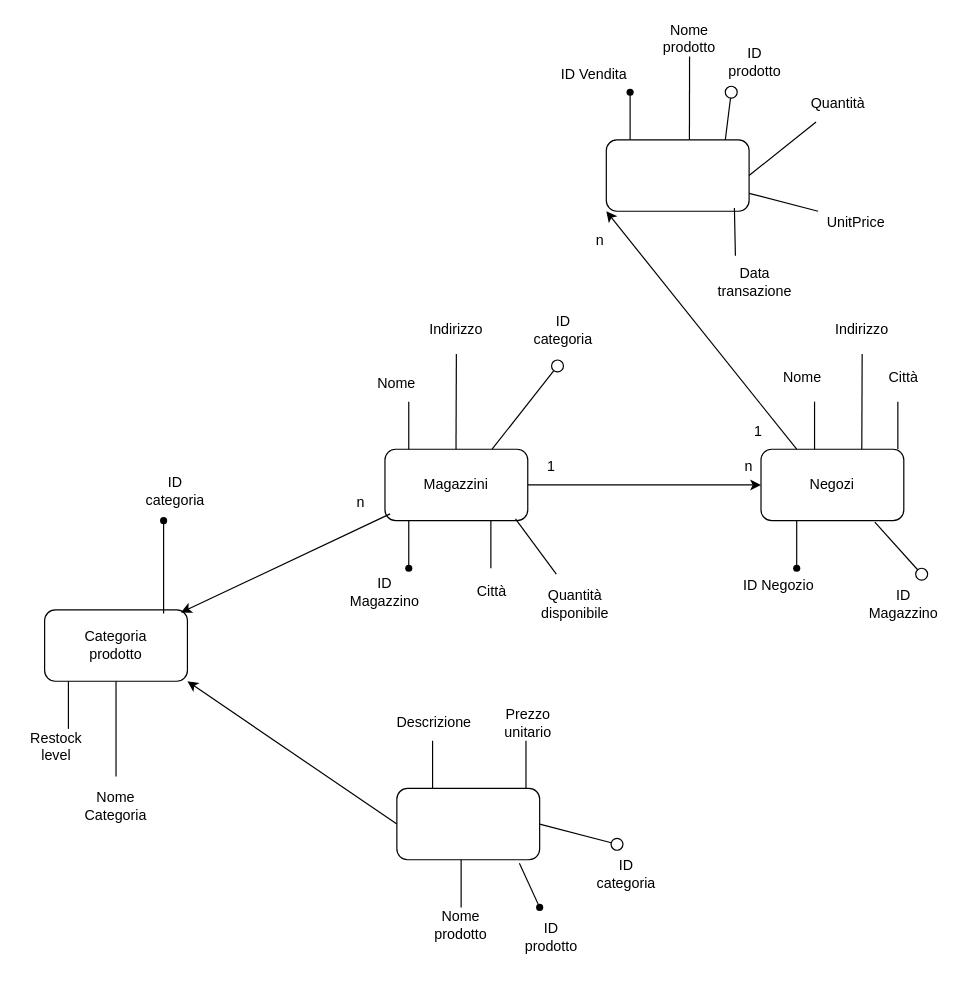
The diagram is 959 pixels wide and 981 high, and some of its shapes have lost their labels. Each missing label, with the box of its shape:
Anagrafica prodotto: (396, 787, 540, 860)
Vendite: (605, 139, 749, 211)
